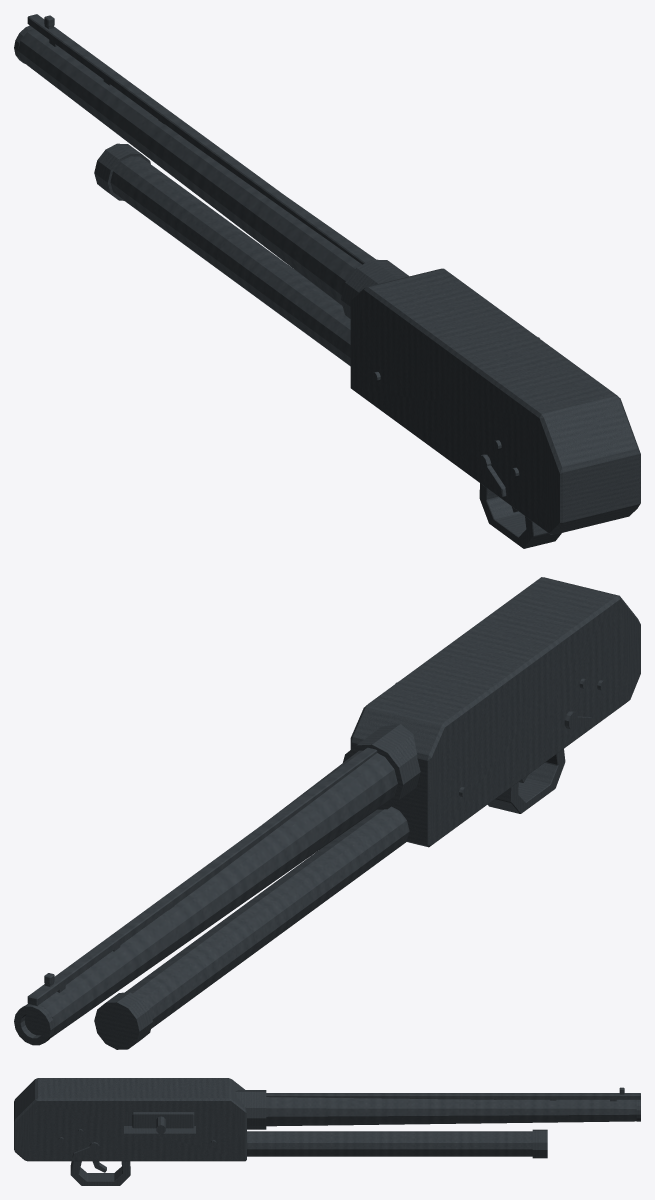
The model's file is weapon_mp153.glb.
The picture shows the model from 3 angles, top to bottom: view 1: azimuth 30°, elevation 25°; view 2: azimuth 150°, elevation 25°; view 3: azimuth 270°, elevation 25°; orthographic projection. The views are drawn at different scales.
Parts seen in each view (by area): view 1: body_LOD0; view 2: body_LOD0; view 3: body_LOD0, action_LOD0.
Part boxes in pixels (<box>): body_LOD0: <box>14,14,640,548</box>; body_LOD0: <box>14,577,640,1049</box>; body_LOD0: <box>14,1078,640,1185</box>; action_LOD0: <box>132,1112,194,1133</box>.
Size of what is drawn, in the model's own units: 0.134 by 0.186 by 1.13.
1 material, 1 textured.
